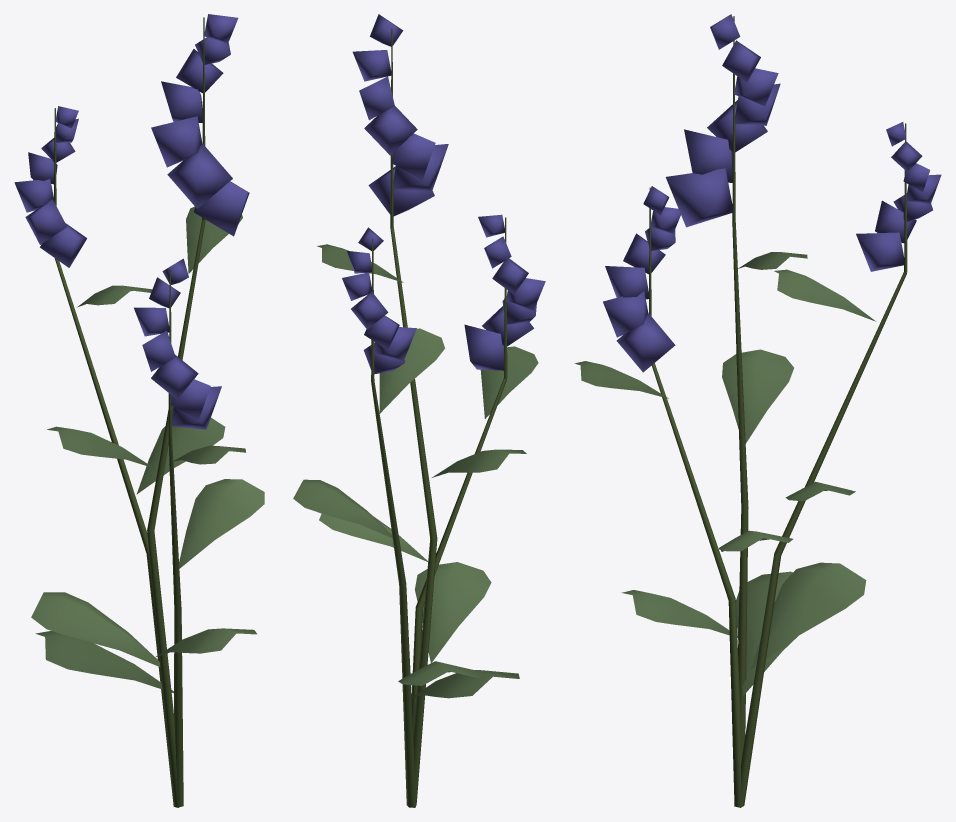
Rendered from blue_lupine.glb.
3 views of the same model, side by side, from view 1: azimuth 30°, elevation 25°; view 2: azimuth 150°, elevation 25°; view 3: azimuth 270°, elevation 25° (orthographic). The views are drawn at different scales.
Visible parts, largest first — view 1: blue_lupine; view 2: blue_lupine; view 3: blue_lupine.
Boxes of the visible parts, x1,y1,x2,y2 form: blue_lupine: (14, 14, 264, 807); blue_lupine: (293, 14, 545, 807); blue_lupine: (574, 14, 941, 807).
Size of the model in its own units: 0.3133 by 1.13 by 0.4684.
